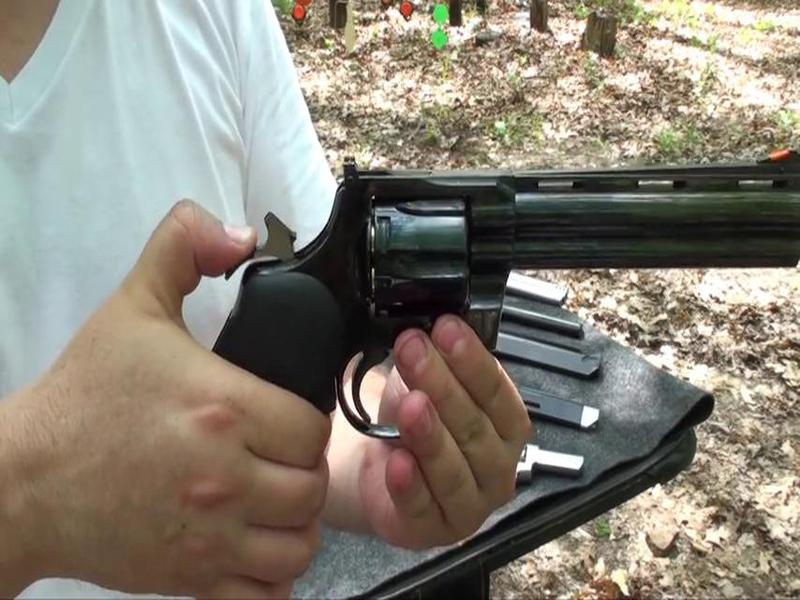Revolver: (215, 134, 800, 422)
